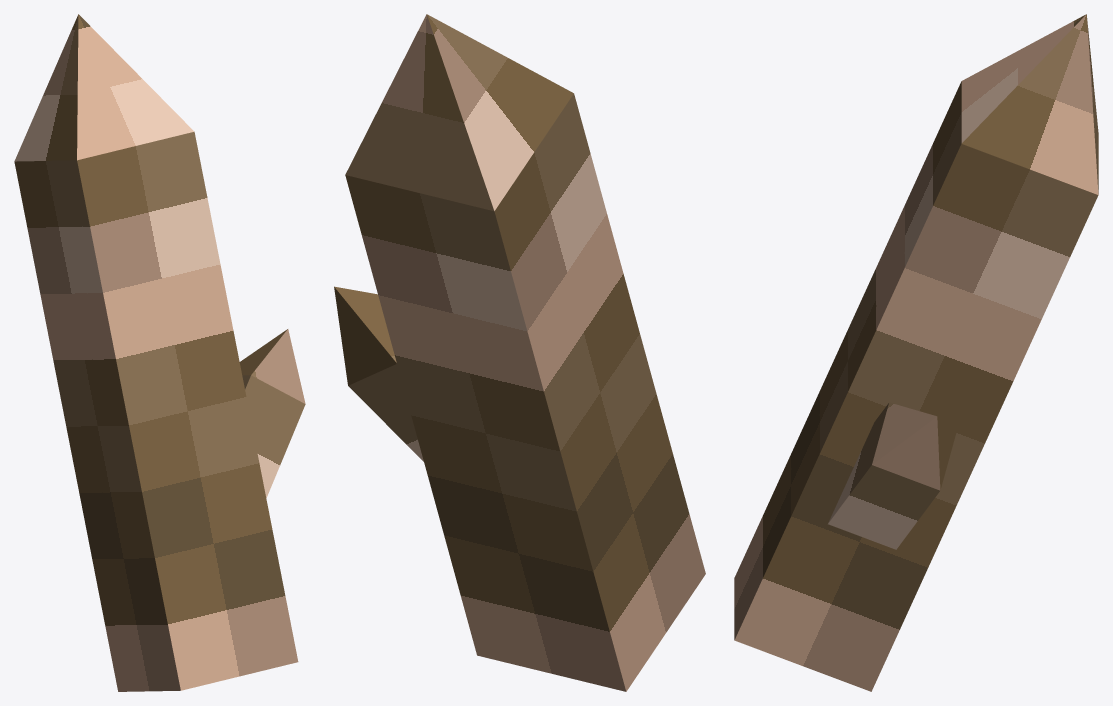
The model's file is iron_1.obj.
3 renders of one model, left to right at view 1: azimuth 30°, elevation 25°; view 2: azimuth 150°, elevation 25°; view 3: azimuth 270°, elevation 25°, orthographic. The views are drawn at different scales.
Parts seen in each view (by area): view 1: 1; view 2: 1; view 3: 1.
Part boxes in pixels (x1=…): 1: x1=14, y1=14, x2=305, y2=691; 1: x1=334, y1=14, x2=705, y2=691; 1: x1=734, y1=14, x2=1098, y2=691.
Bounding box in the file's own units: 0.2128 × 0.6013 × 0.3068.
